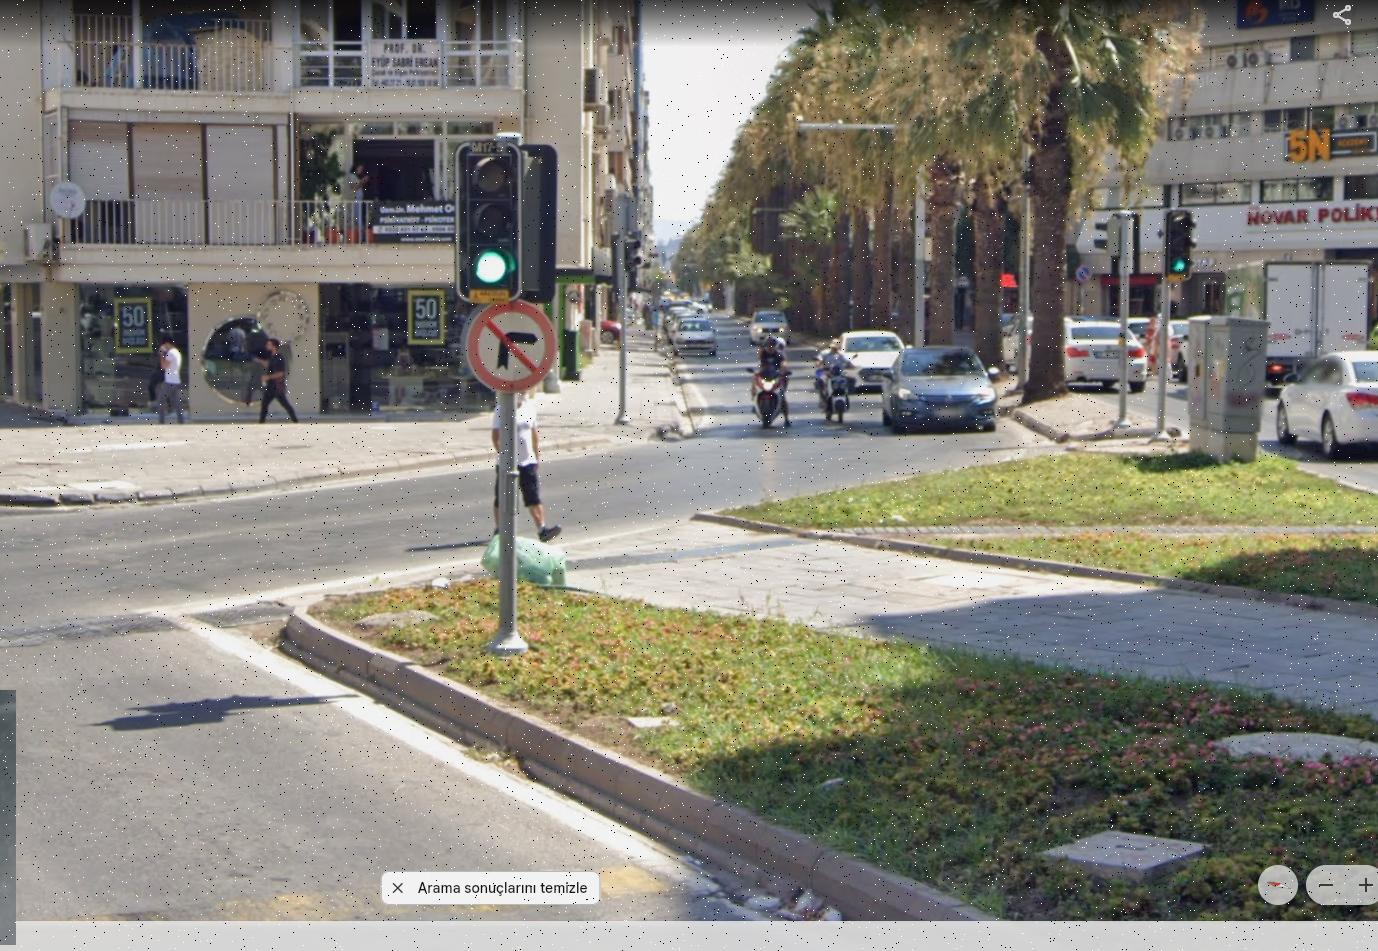greenlight: (468, 147, 516, 294), (1166, 208, 1195, 281)
rightturnsareforbidden: (480, 304, 547, 385)
